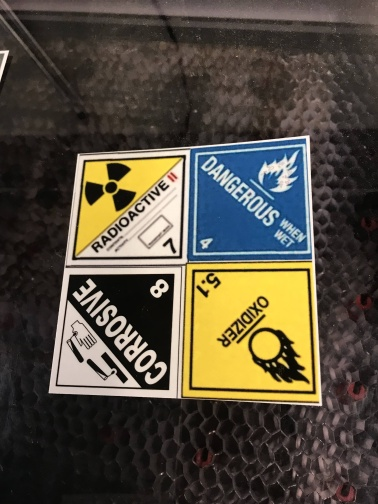Corrosive: (48, 268, 182, 398)
DangerousWhenWet: (189, 139, 316, 262)
Oxidizer: (185, 265, 323, 403)
Radioactive: (65, 152, 187, 263)
